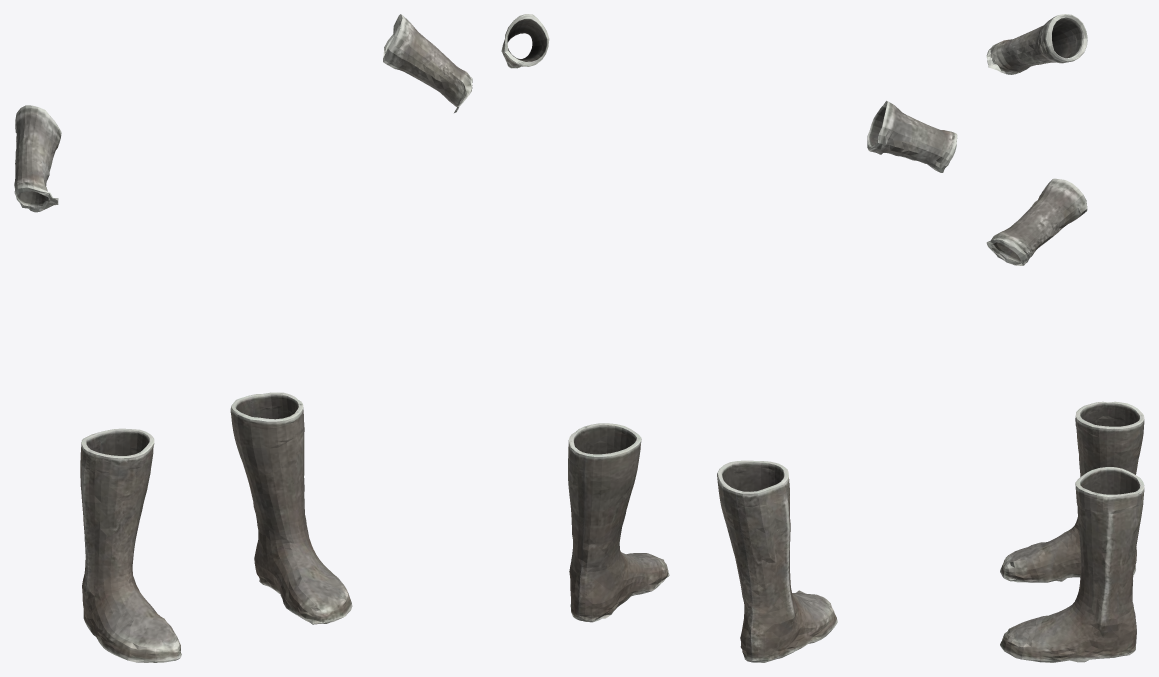
The model's file is mhw_matcreator_mc-scifi-armor_guardian.glb.
The picture shows the model from 3 angles, left to right: view 1: azimuth 30°, elevation 25°; view 2: azimuth 150°, elevation 25°; view 3: azimuth 270°, elevation 25°; orthographic projection. The views are drawn at different scales.
Visible parts, largest first — view 1: mhw_matcreator_mc-scifi-armor_guardian; view 2: mhw_matcreator_mc-scifi-armor_guardian; view 3: mhw_matcreator_mc-scifi-armor_guardian.
Part boxes in pixels (x1,y1,x2,y2): mhw_matcreator_mc-scifi-armor_guardian: (14,14,472,662); mhw_matcreator_mc-scifi-armor_guardian: (501,14,957,662); mhw_matcreator_mc-scifi-armor_guardian: (986,14,1144,662).
Size of the model in its own units: 1.1 by 1.3 by 0.3606.
Materials: 1 (1 with a texture image).
